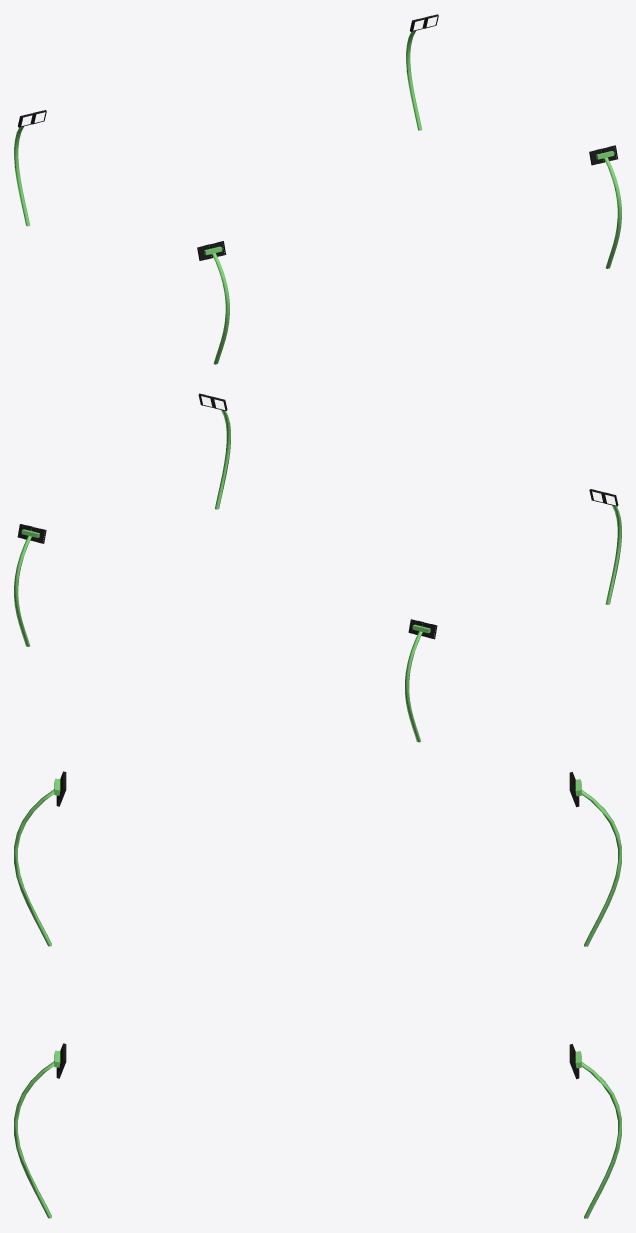
Rendered from padel_1.glb.
The picture shows the model from 3 angles, top to bottom: view 1: azimuth 30°, elevation 25°; view 2: azimuth 150°, elevation 25°; view 3: azimuth 270°, elevation 25°; orthographic projection. The views are drawn at different scales.
Parts seen in each view (by area): view 1: padel_1; view 2: padel_1; view 3: padel_1.
Boxes of the visible parts, left/top/right/bottom form: padel_1: left=14, top=14, right=621, bottom=364; padel_1: left=14, top=393, right=621, bottom=742; padel_1: left=14, top=771, right=621, bottom=1218.
Size of the model in its own units: 12.97 by 3.44 by 11.47.
